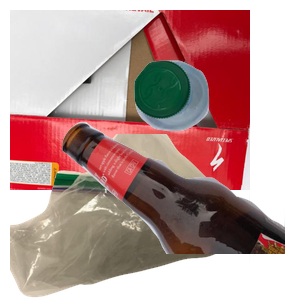cardboard: (10, 10, 250, 190)
glass: (60, 120, 300, 300)
plastic: (132, 58, 300, 182)
trash: (10, 134, 250, 300)
